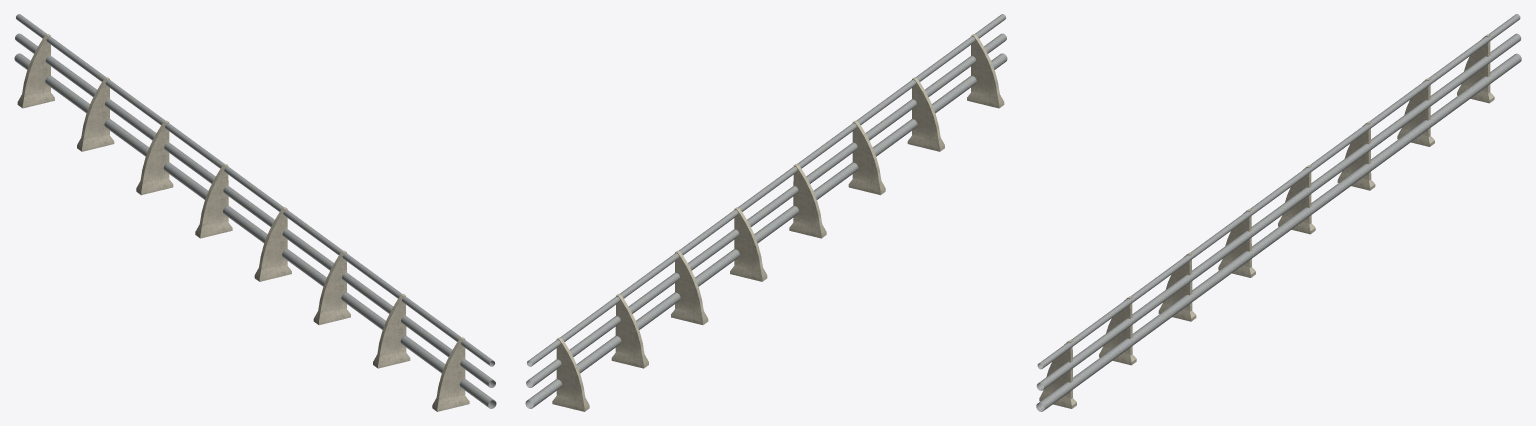
The model's file is GSDRailing4-20m.FBX.
The picture shows the model from 3 angles, left to right: view 1: azimuth 30°, elevation 25°; view 2: azimuth 150°, elevation 25°; view 3: azimuth 330°, elevation 25°; orthographic projection.
Visible parts, largest first — view 1: GSDRailing4-20m; view 2: GSDRailing4-20m; view 3: GSDRailing4-20m.
Part boxes in pixels (box(x1,y1,x2,y2)): GSDRailing4-20m: box(14, 14, 496, 411); GSDRailing4-20m: box(525, 14, 1007, 411); GSDRailing4-20m: box(1036, 14, 1521, 411).
Bounding box in the file's own units: 0.7854 × 1.51 × 20.
